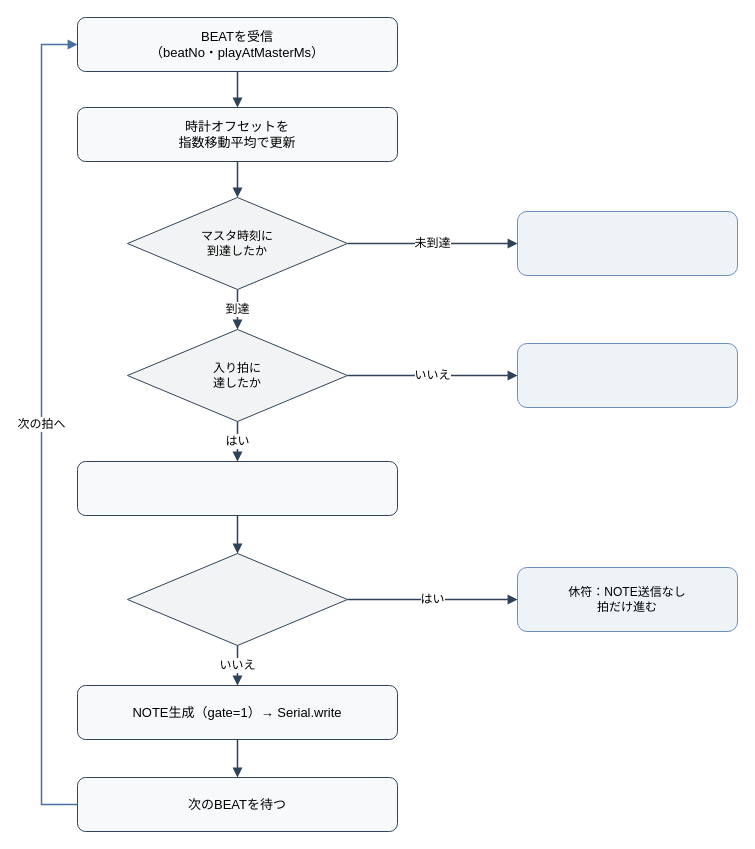
Image size: 755x849. Some labels were removed from this diagram. The shapes that lost their labels are listed below. From the top down, each one's centre as x and y in pixels, then its label:
point 627,243: 未到達：次ループで再判定
point 627,375: 入り待ち：鳴らさない
point 237,488: 楽譜位置 idx を算出 （剰余でループ）
point 237,599: kScore[idx] は休符か
